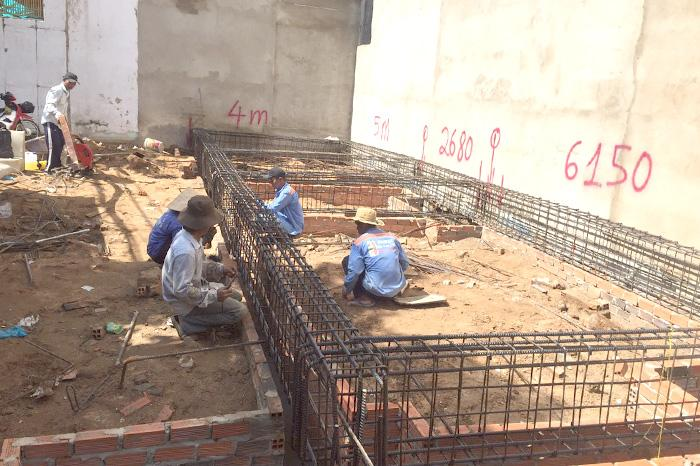Helmet: (186, 198, 220, 230), (355, 210, 380, 225), (267, 166, 285, 182), (62, 73, 79, 86)
Person: (160, 195, 247, 341), (341, 206, 409, 306), (146, 186, 222, 268), (40, 71, 79, 173), (256, 167, 304, 244)
bare-arms: (220, 263, 239, 279), (216, 288, 231, 303)
no-vest: (169, 237, 214, 306), (353, 240, 405, 291), (275, 192, 302, 233), (43, 87, 67, 122)
